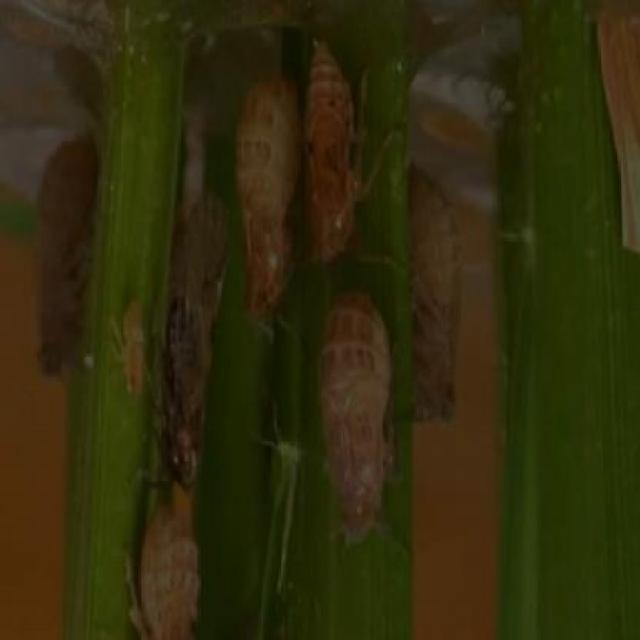brown-planthopper: (314, 291, 392, 549), (32, 122, 100, 383), (232, 63, 297, 319), (403, 155, 459, 428), (305, 43, 360, 268), (114, 297, 148, 397)
